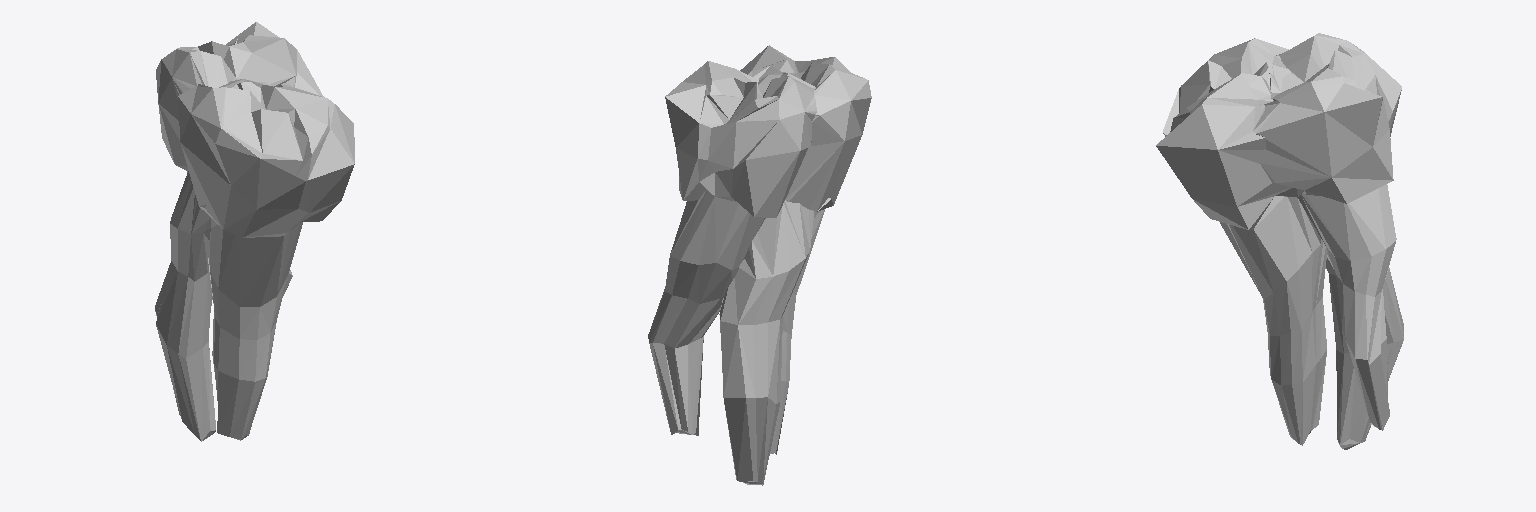
Rendered from Lower_Molar_Right_01.obj.
3 renders of one model, left to right at view 1: azimuth 30°, elevation 25°; view 2: azimuth 150°, elevation 25°; view 3: azimuth 270°, elevation 25°, orthographic.
Visible parts, largest first — view 1: Lower_Molar_Right_01 Lower_Teeth Teeth group1; view 2: Lower_Molar_Right_01 Lower_Teeth Teeth group1; view 3: Lower_Molar_Right_01 Lower_Teeth Teeth group1.
Boxes of the visible parts, x1,y1,x2,y2 form: Lower_Molar_Right_01 Lower_Teeth Teeth group1: [155, 22, 354, 441]; Lower_Molar_Right_01 Lower_Teeth Teeth group1: [648, 45, 871, 485]; Lower_Molar_Right_01 Lower_Teeth Teeth group1: [1156, 33, 1403, 449].
Bounding box in the file's own units: 0.1098 × 0.2773 × 0.1547.